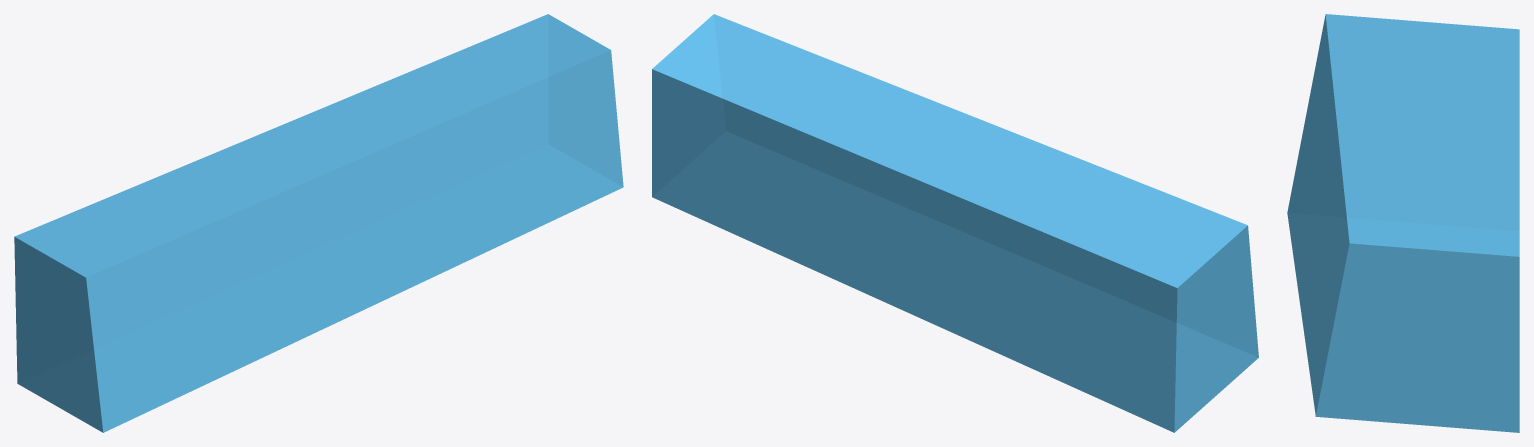
The model's file is Event_421278790_HErechit_4.fbx.
3 views of the same model, side by side, from view 1: azimuth 30°, elevation 25°; view 2: azimuth 150°, elevation 25°; view 3: azimuth 270°, elevation 25° (orthographic). The views are drawn at different scales.
Visible parts, largest first — view 1: Model; view 2: Model; view 3: Model.
Boxes of the visible parts, box(x1,y1,x2,y2) form: Model: box(14, 14, 623, 432); Model: box(652, 14, 1258, 432); Model: box(1287, 14, 1519, 432).
Bounding box in the file's own units: 1.43 × 0.6407 × 0.3988.
